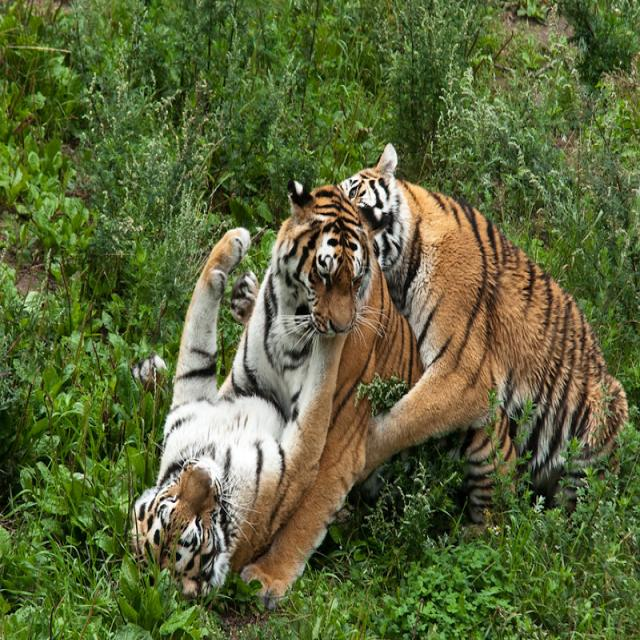Tiger: (347, 142, 628, 530), (130, 226, 310, 594), (238, 169, 397, 572)
